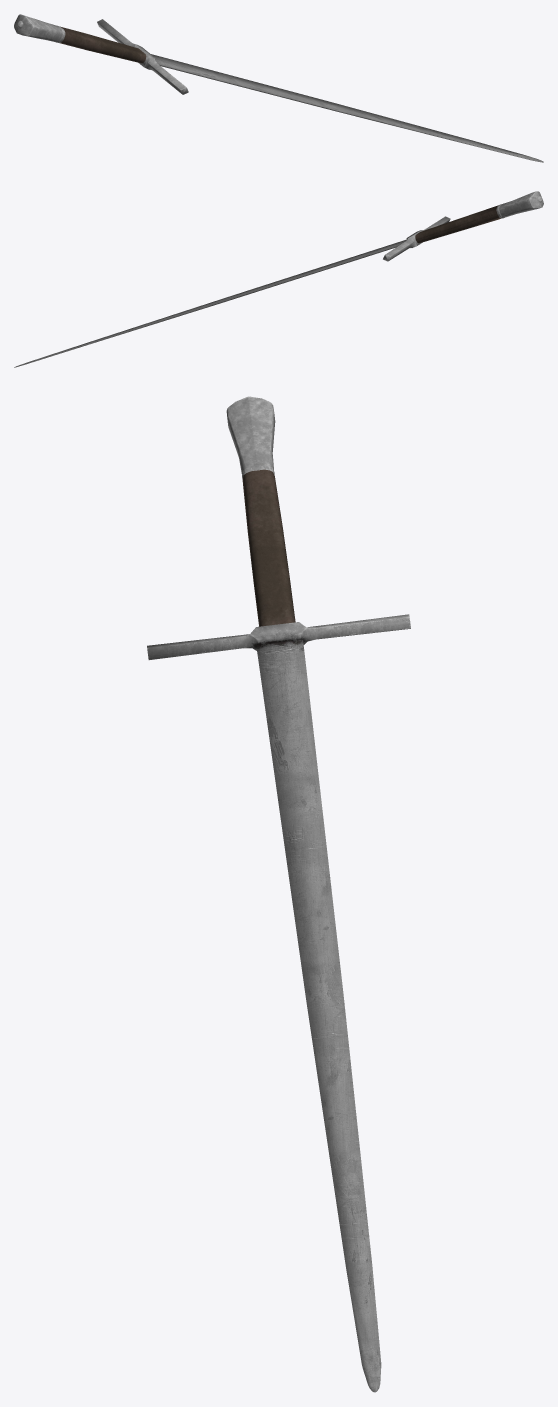
Rendered from long_mkostal.glb.
3 views of the same model, one above another, from view 1: azimuth 30°, elevation 25°; view 2: azimuth 150°, elevation 25°; view 3: azimuth 270°, elevation 25° (orthographic). The views are drawn at different scales.
Size of the model in its own units: 1.53 by 0.7976 by 0.3604.
1 material, 1 textured.
